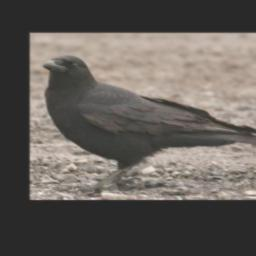Crow: (43, 54, 256, 193)
